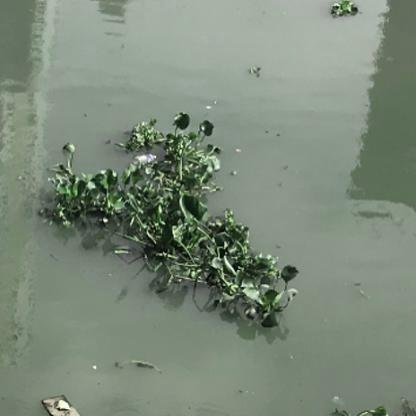Plastic: (132, 152, 158, 170)
